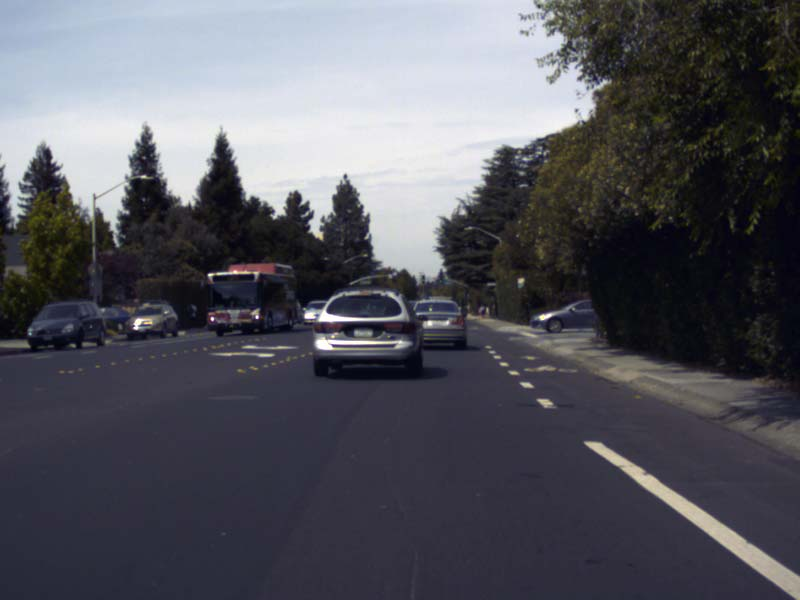Green: (439, 269, 444, 283)
